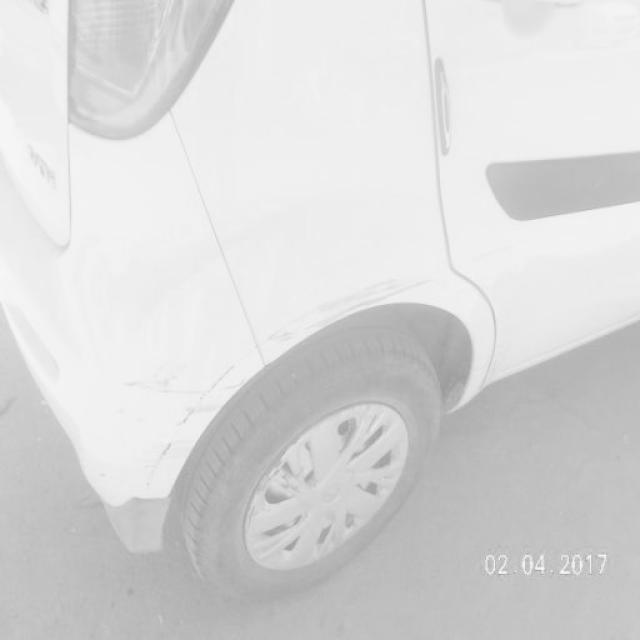car damage: (261, 274, 435, 348), (178, 360, 238, 432), (122, 357, 197, 397), (479, 341, 513, 392), (147, 434, 173, 482)
